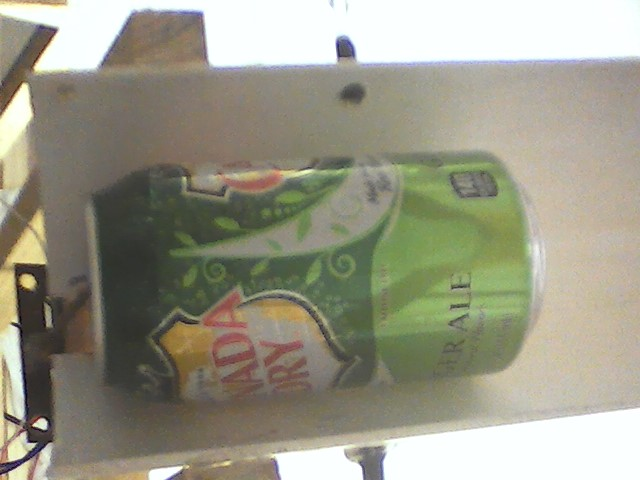lata: (81, 148, 553, 402)
